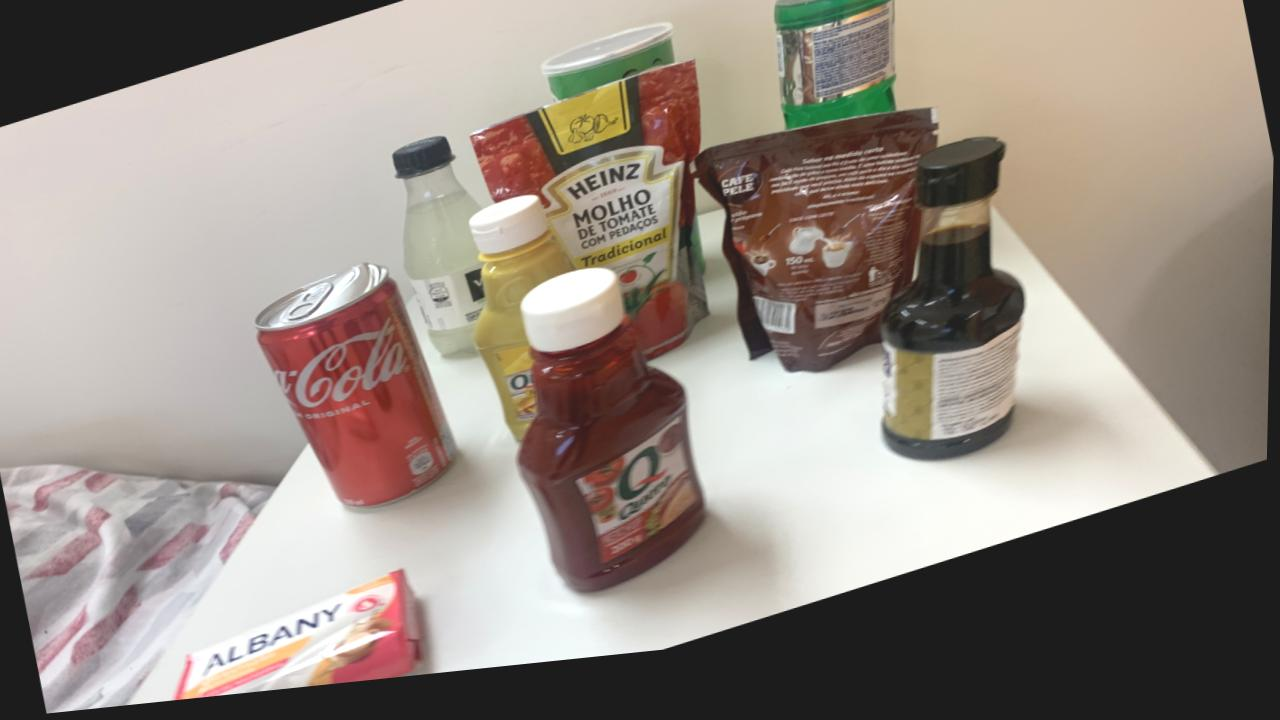Coffee-Pantry_Items: (695, 128, 939, 390)
Coke-Drinks: (258, 272, 459, 517)
Detergent-Cleanup_Items: (774, 0, 897, 147)
English_Sauce-Pantry_Items: (882, 158, 1027, 481)
Ketchup-Pantry_Items: (518, 282, 708, 605)
Mustard-Pantry_Items: (469, 206, 574, 451)
Pringles-Snacks: (541, 36, 676, 113)
Soap-Cleanup_Items: (177, 578, 425, 705)
Soda-Drinks: (393, 145, 487, 367)
Tomato_Sauce-Pantry_Items: (472, 76, 710, 373)
